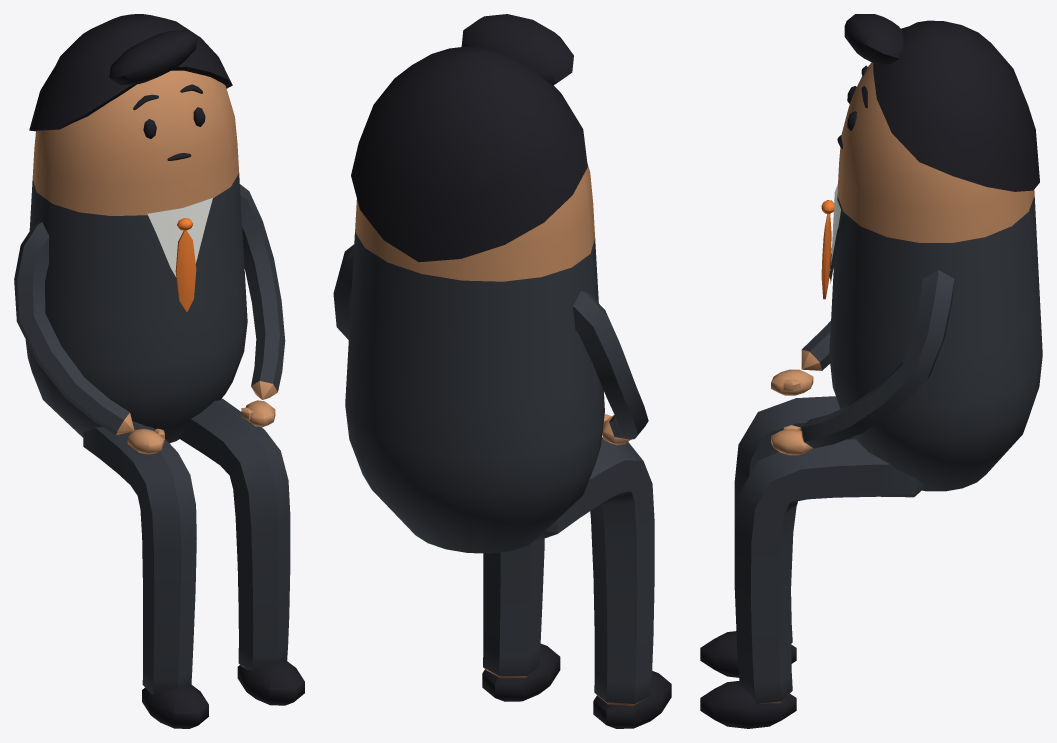
Rendered from PasajeroEjecutivo.fbx.
The picture shows the model from 3 angles, left to right: view 1: azimuth 30°, elevation 25°; view 2: azimuth 150°, elevation 25°; view 3: azimuth 270°, elevation 25°; orthographic projection. The views are drawn at different scales.
Visible parts, largest first — view 1: PasajeroEjecutivo; view 2: PasajeroEjecutivo; view 3: PasajeroEjecutivo.
Boxes of the visible parts, x1=… form: PasajeroEjecutivo: x1=14, y1=14, x2=304, y2=728; PasajeroEjecutivo: x1=333, y1=14, x2=671, y2=728; PasajeroEjecutivo: x1=700, y1=14, x2=1042, y2=728.
Bounding box in the file's own units: 2.11 × 4.99 × 2.3.
1 material, 1 textured.
